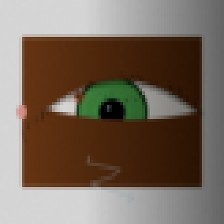foreign_body_visible: (132, 122, 175, 156)
